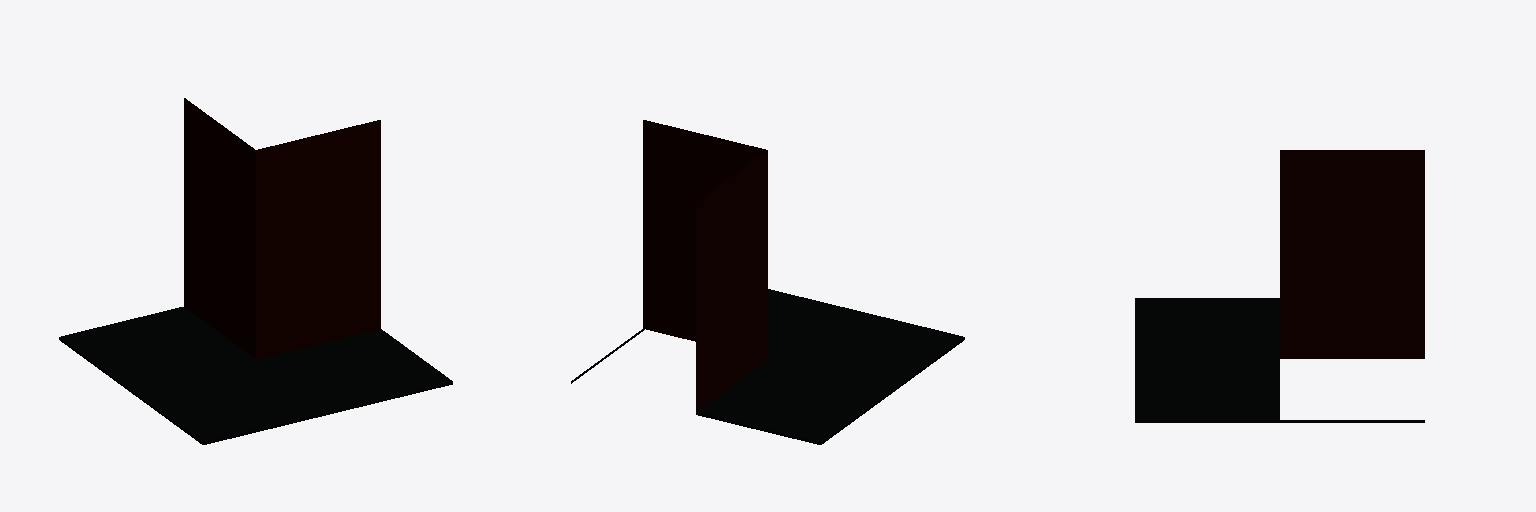
File: city_multi_s.obj
The picture shows the model from 3 angles: view 1: azimuth 30°, elevation 25°; view 2: azimuth 150°, elevation 25°; view 3: azimuth 270°, elevation 25°; orthographic projection.
Parts seen in each view (by area): view 1: city_multi_s_Plane.007; view 2: city_multi_s_Plane.007; view 3: city_multi_s_Plane.007.
Boxes of the visible parts, x1=… form: city_multi_s_Plane.007: x1=59, y1=98, x2=452, y2=444; city_multi_s_Plane.007: x1=571, y1=120, x2=964, y2=444; city_multi_s_Plane.007: x1=1135, y1=150, x2=1424, y2=422.
Bounding box in the file's own units: 1.6 × 1.29 × 1.6.